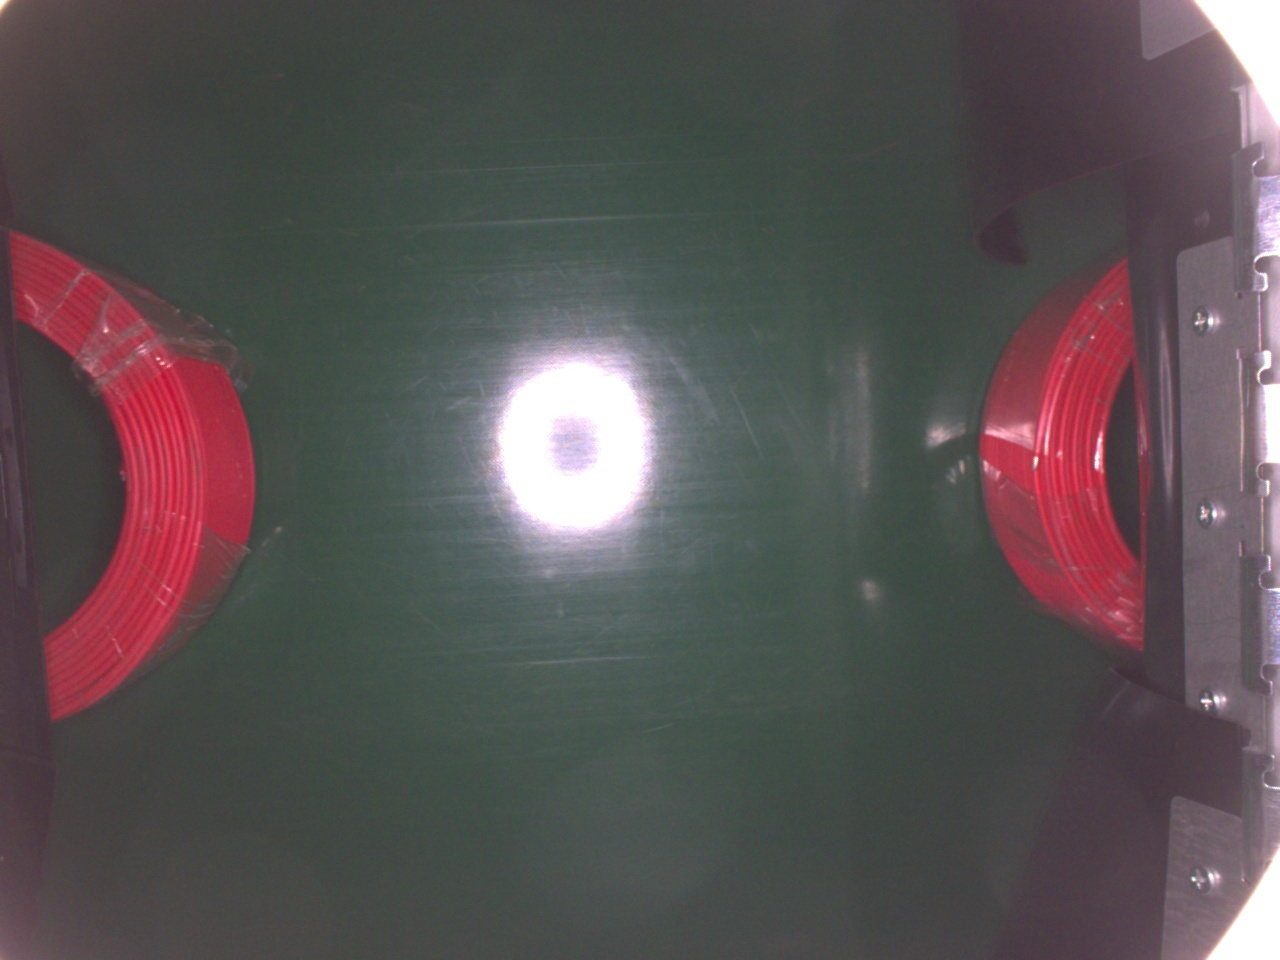red: (3, 221, 255, 722), (979, 239, 1157, 658)
